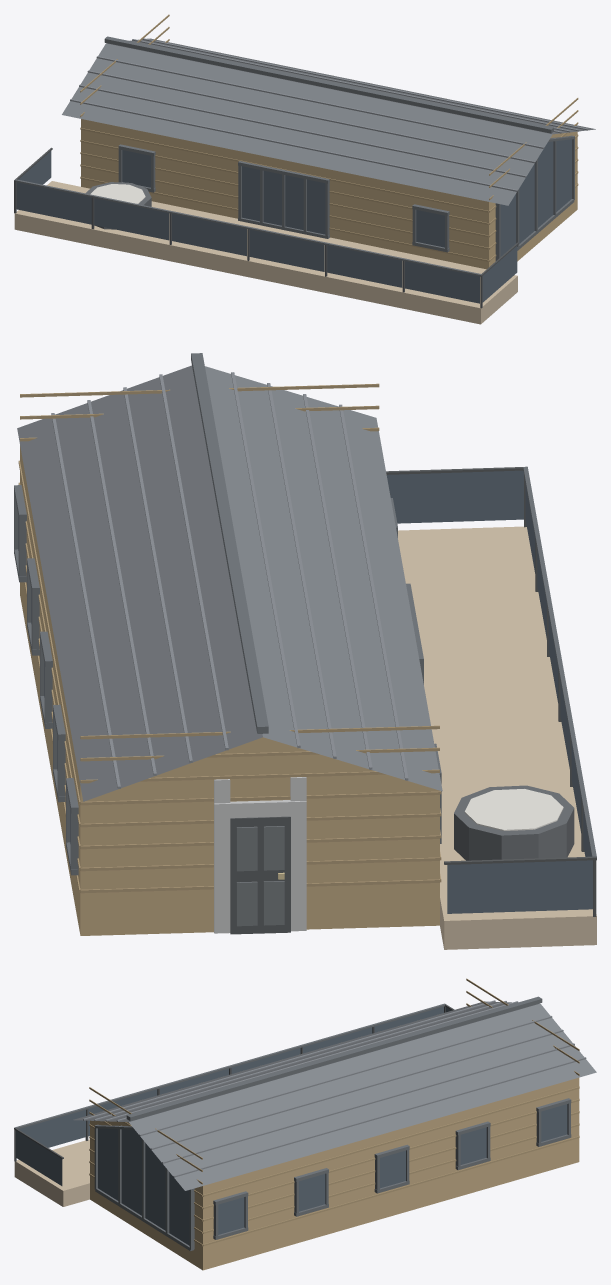
3 views of the same model, one above another, from view 1: azimuth 30°, elevation 25°; view 2: azimuth 150°, elevation 25°; view 3: azimuth 270°, elevation 25° (orthographic). The views are drawn at different scales.
Visible parts, largest first — view 1: slate, door_wood, larch, slate_dk, slate_lt, door_wood_p, window_glass_015, window_glass_001, window_glass_004, window_glass_002, window_glass_005, window_glass_006 (+11 smaller); view 2: slate, door_wood, larch, slate_dk, door_wood_p, slate_lt, window_glass_007, window_glass_008, stone_band, band_dark, door_dark_p, door_dark (+2 smaller); view 3: slate, door_wood, slate_dk, slate_lt, window_glass_015, door_wood_p, larch, window_glass_006, window_glass_008, window_glass_016, window_glass_017, window_glass_019 (+8 smaller).
Boxes of the visible parts, x1,y1,x2,y2 form: slate: [62, 38, 595, 205]; door_wood: [81, 119, 577, 269]; larch: [14, 181, 517, 324]; slate_dk: [15, 36, 574, 276]; slate_lt: [70, 38, 588, 191]; door_wood_p: [80, 14, 578, 261]; window_glass_015: [500, 139, 571, 256]; window_glass_001: [16, 182, 91, 224]; window_glass_004: [249, 229, 324, 271]; window_glass_002: [94, 198, 169, 240]; window_glass_005: [327, 245, 402, 287]; window_glass_006: [405, 261, 479, 303]; slate: [17, 365, 442, 801]; door_wood: [20, 446, 439, 935]; larch: [398, 526, 596, 949]; slate_dk: [14, 353, 596, 875]; door_wood_p: [18, 383, 441, 893]; slate_lt: [51, 372, 408, 788]; window_glass_007: [447, 860, 592, 913]; window_glass_008: [386, 470, 523, 523]; stone_band: [214, 777, 306, 933]; band_dark: [454, 785, 574, 860]; door_dark_p: [236, 826, 284, 926]; door_dark: [230, 816, 290, 934]; slate: [73, 1001, 596, 1190]; door_wood: [90, 1077, 579, 1270]; slate_dk: [15, 996, 571, 1251]; slate_lt: [83, 1000, 586, 1177]; window_glass_015: [98, 1128, 189, 1245]; door_wood_p: [89, 978, 579, 1246]; larch: [14, 1139, 89, 1206]; window_glass_006: [18, 1110, 85, 1147]; window_glass_008: [16, 1130, 62, 1185]; window_glass_016: [218, 1197, 244, 1234]; window_glass_017: [299, 1174, 325, 1211]; window_glass_019: [460, 1127, 486, 1164].
Bounding box in the file's own units: 14.68 × 3.81 × 16.25.
